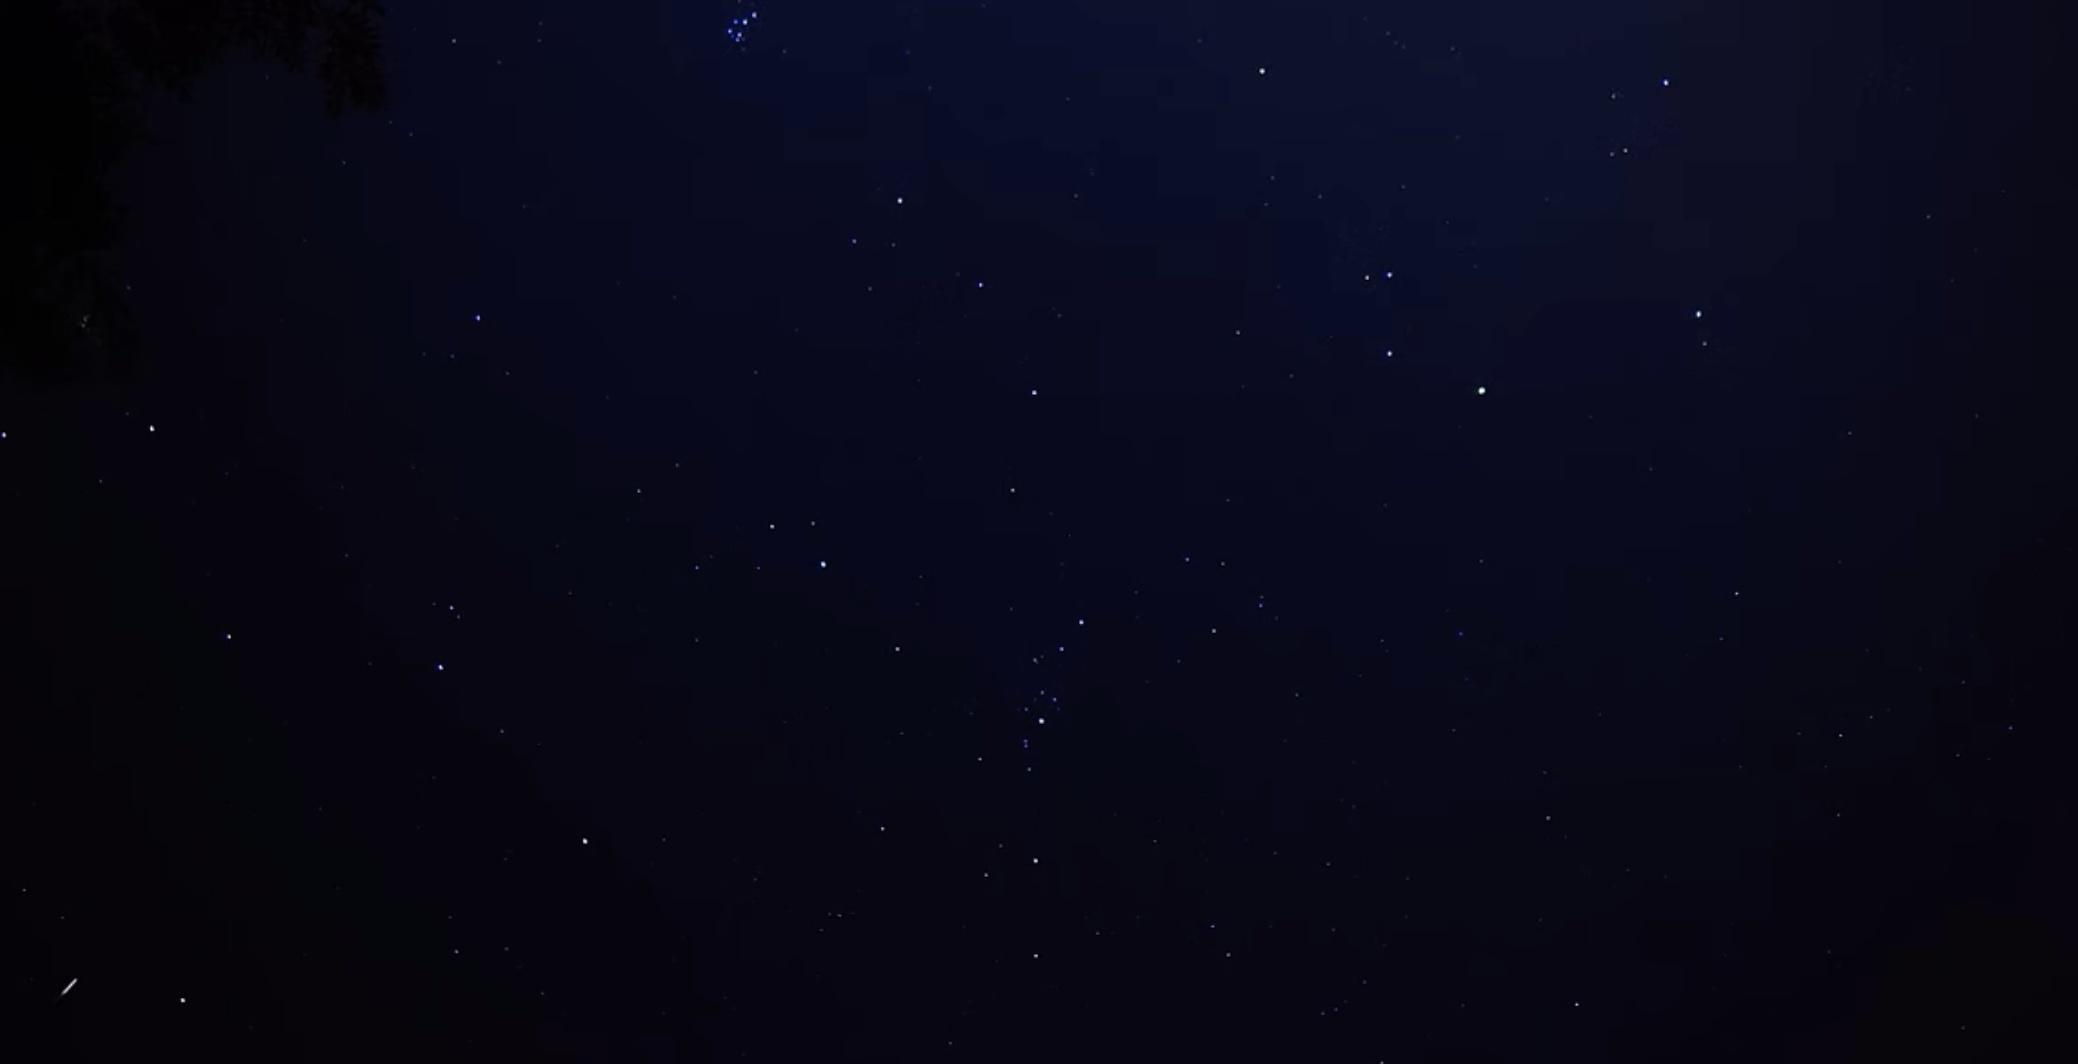meteorite: (18, 968, 123, 1007)
